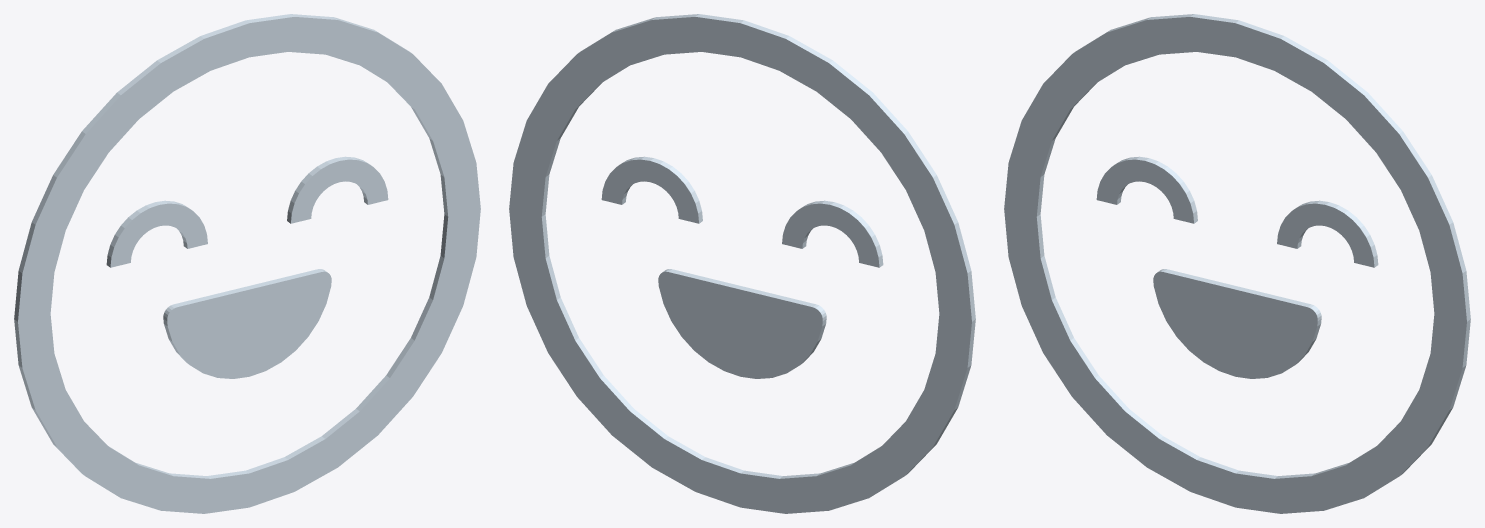
File: Happy_Face_3D_Icon_02.fbx
3 renders of one model, left to right at view 1: azimuth 30°, elevation 25°; view 2: azimuth 150°, elevation 25°; view 3: azimuth 330°, elevation 25°, orthographic.
Visible parts, largest first — view 1: Happy_Face_3D_Icon_02; view 2: Happy_Face_3D_Icon_02; view 3: Happy_Face_3D_Icon_02.
Part boxes in pixels (x1,y1,x2,y2): Happy_Face_3D_Icon_02: (14,14,480,513); Happy_Face_3D_Icon_02: (509,14,975,513); Happy_Face_3D_Icon_02: (1004,14,1470,513).
Bounding box in the file's own units: 139 × 139 × 2.
